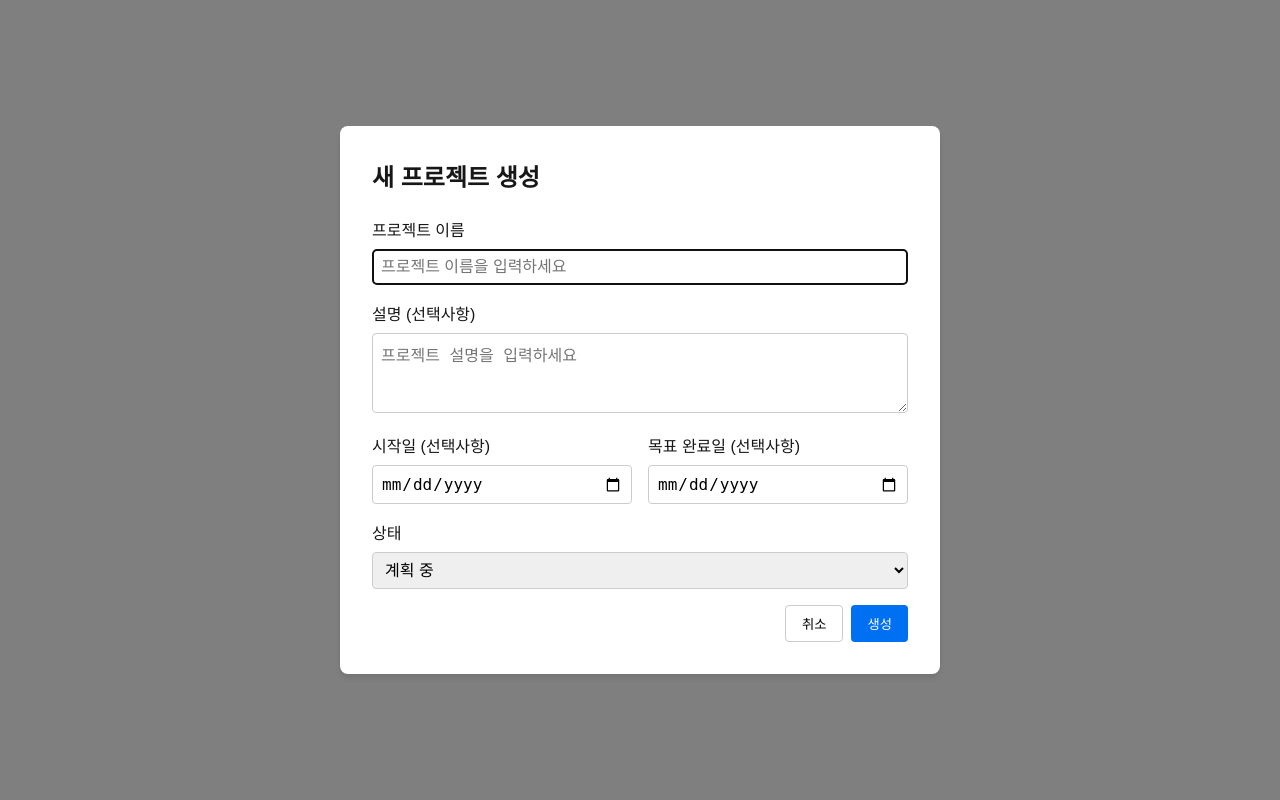
it: CreateProjectModal › should show validation error for empty title
Click the button "생성": [880, 624] box left=852, top=605, right=908, bottom=642
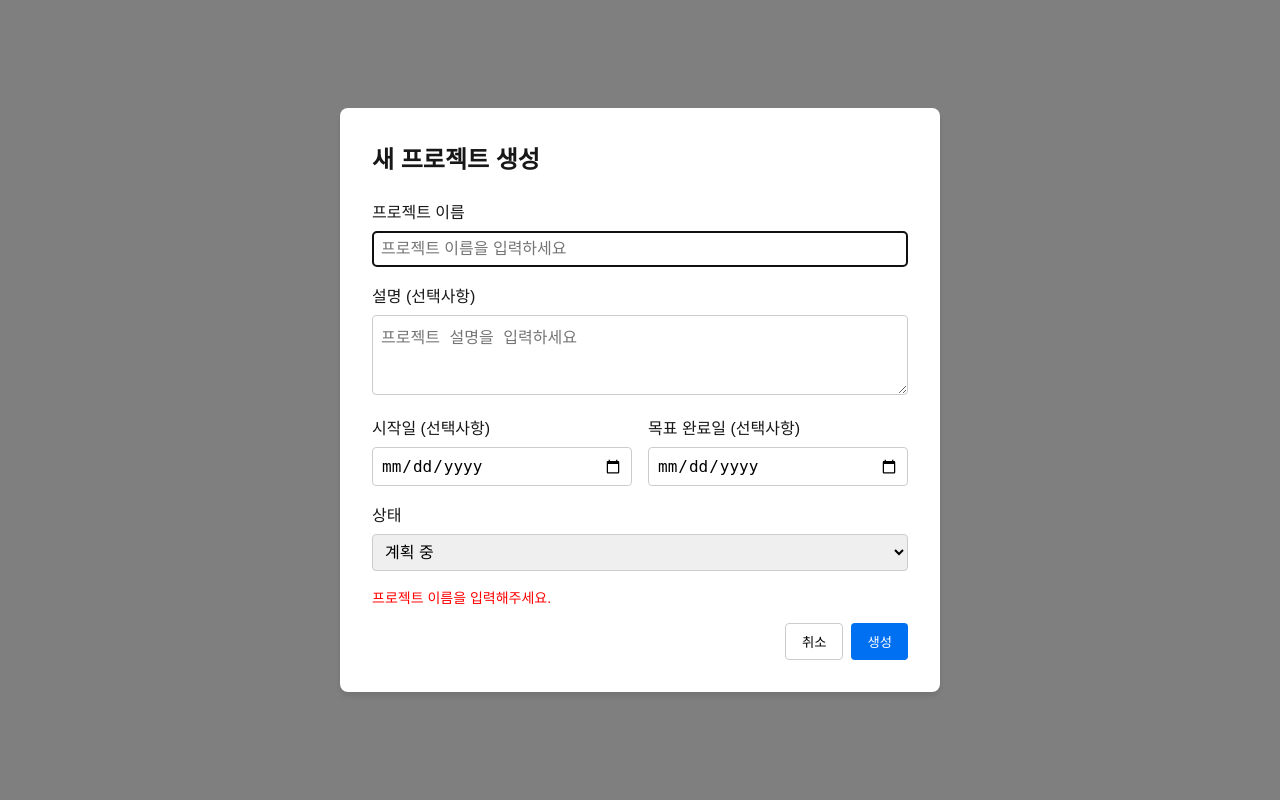
Check: the text "프로젝트 이름을 입력해주세요." is shown, box left=372, top=590, right=551, bottom=606
